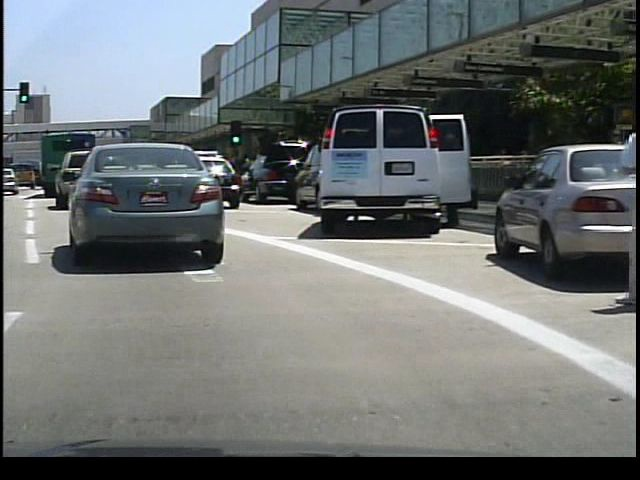person: (601, 90, 640, 316)
